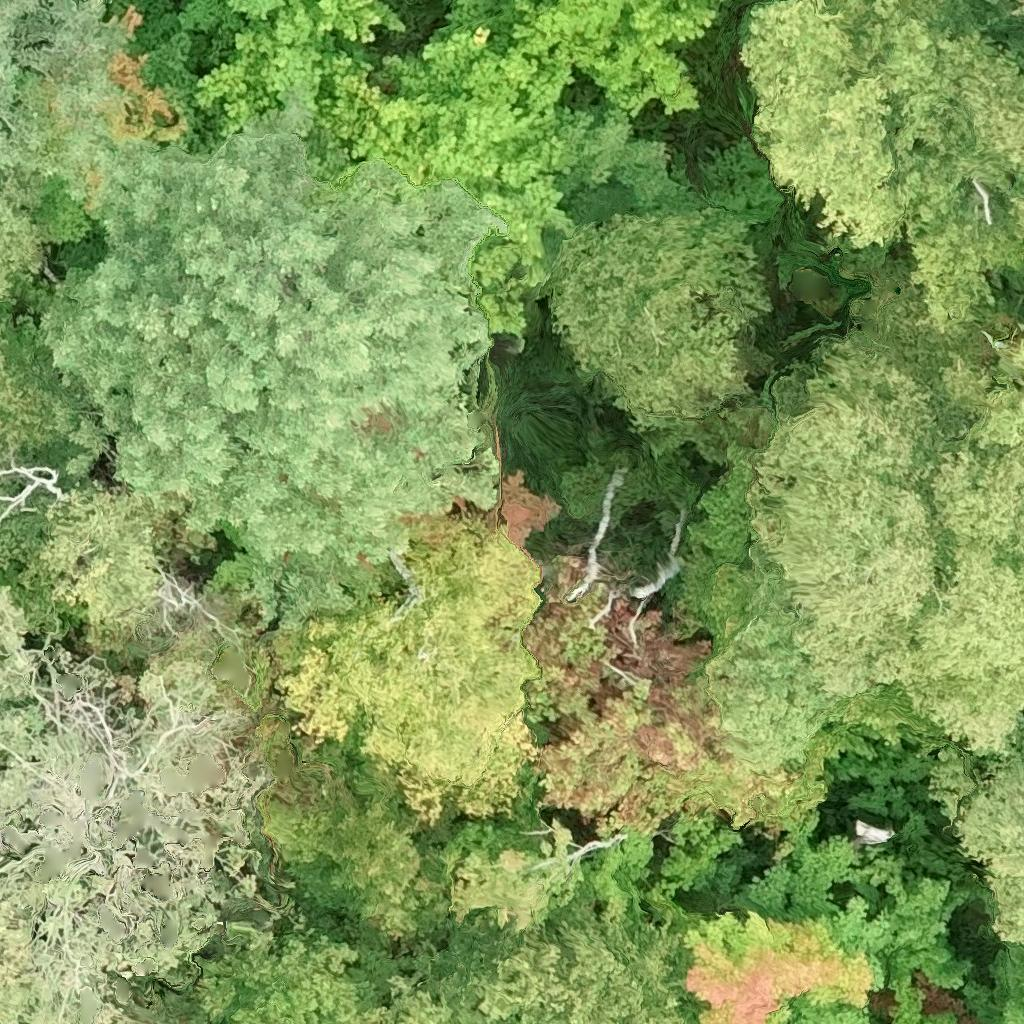crown: (40, 86, 507, 629), (339, 0, 713, 340), (747, 258, 1021, 694), (0, 590, 267, 1023), (266, 472, 557, 822), (739, 0, 1023, 326), (520, 559, 796, 831), (650, 814, 969, 1023), (195, 0, 404, 185), (902, 444, 1023, 759), (702, 596, 856, 773), (0, 0, 123, 209), (37, 481, 170, 653), (477, 917, 685, 1023), (933, 713, 1023, 945), (938, 324, 1023, 452), (163, 0, 283, 64), (362, 972, 462, 1023), (884, 969, 961, 1023), (1001, 996, 1023, 1023), (438, 0, 454, 23), (693, 0, 720, 11), (1009, 0, 1023, 15), (492, 0, 512, 4), (1021, 985, 1023, 996), (980, 0, 989, 1)
